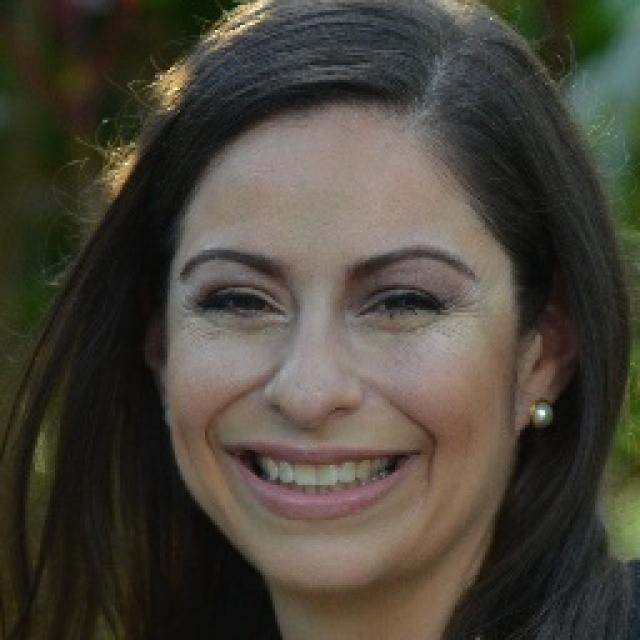earlobe: (515, 295, 581, 431)
